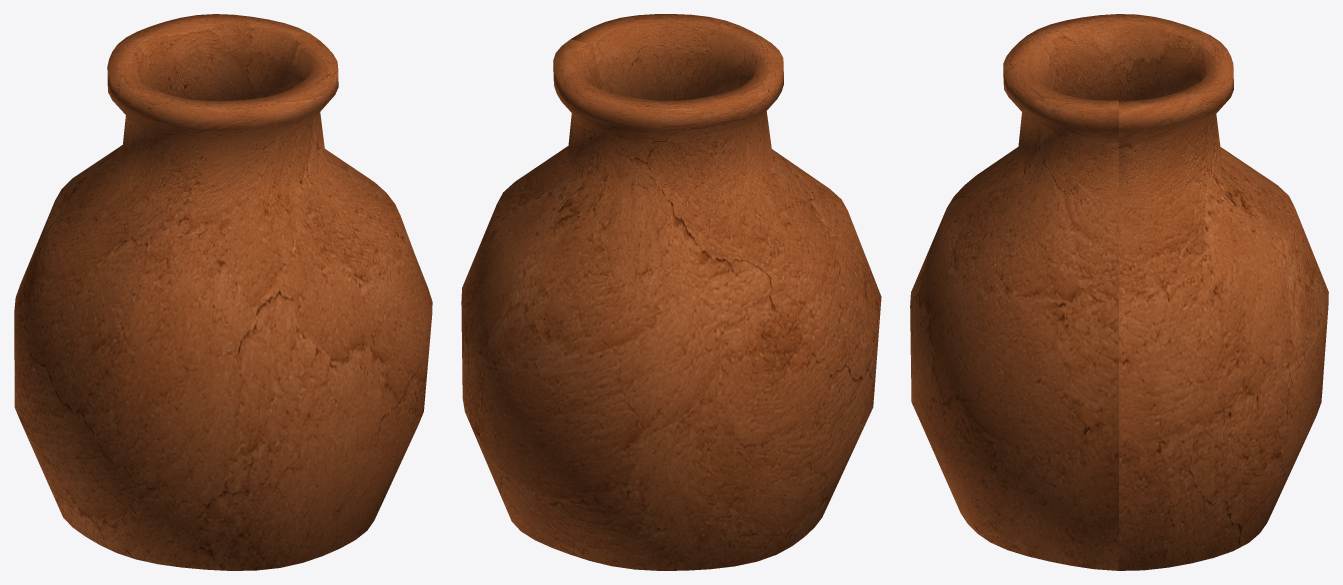
File: prop_kolshi.glb
3 views of the same model, side by side, from view 1: azimuth 30°, elevation 25°; view 2: azimuth 150°, elevation 25°; view 3: azimuth 270°, elevation 25° (orthographic).
Visible parts, largest first — view 1: prop_kolshi; view 2: prop_kolshi; view 3: prop_kolshi.
Boxes of the visible parts, box(x1,y1,x2,y2) form: prop_kolshi: box(14, 14, 432, 570); prop_kolshi: box(461, 14, 881, 570); prop_kolshi: box(910, 14, 1328, 570).
Size of the model in its own units: 0.29 by 0.35 by 0.2903.
1 material, 1 textured.
